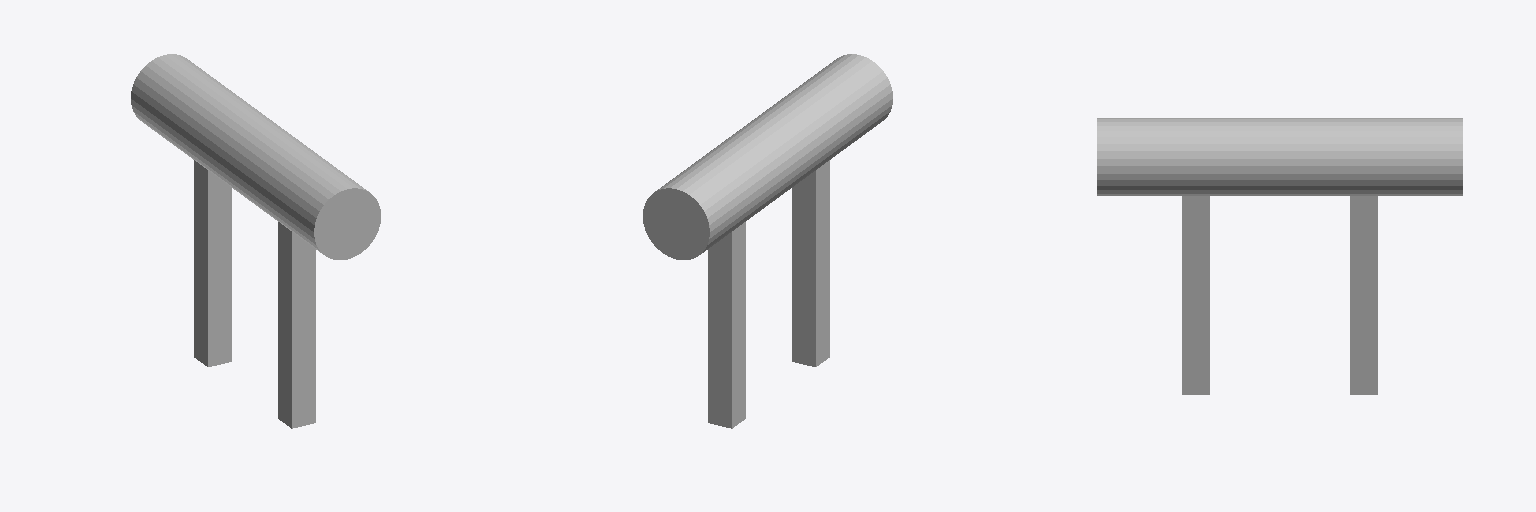
Rendered from ThrottleHandle.obj.
3 renders of one model, left to right at view 1: azimuth 30°, elevation 25°; view 2: azimuth 150°, elevation 25°; view 3: azimuth 270°, elevation 25°, orthographic.
Parts seen in each view (by area): view 1: Throttle_handle_Cube.001; view 2: Throttle_handle_Cube.001; view 3: Throttle_handle_Cube.001.
Boxes of the visible parts, <box> form: Throttle_handle_Cube.001: <box>131,54,380,428</box>; Throttle_handle_Cube.001: <box>643,54,892,428</box>; Throttle_handle_Cube.001: <box>1097,118,1462,394</box>.
Bounding box in the file's own units: 0.2431 × 0.9258 × 1.15.